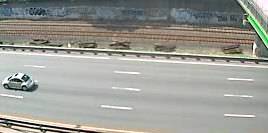car: (1, 71, 38, 93)
